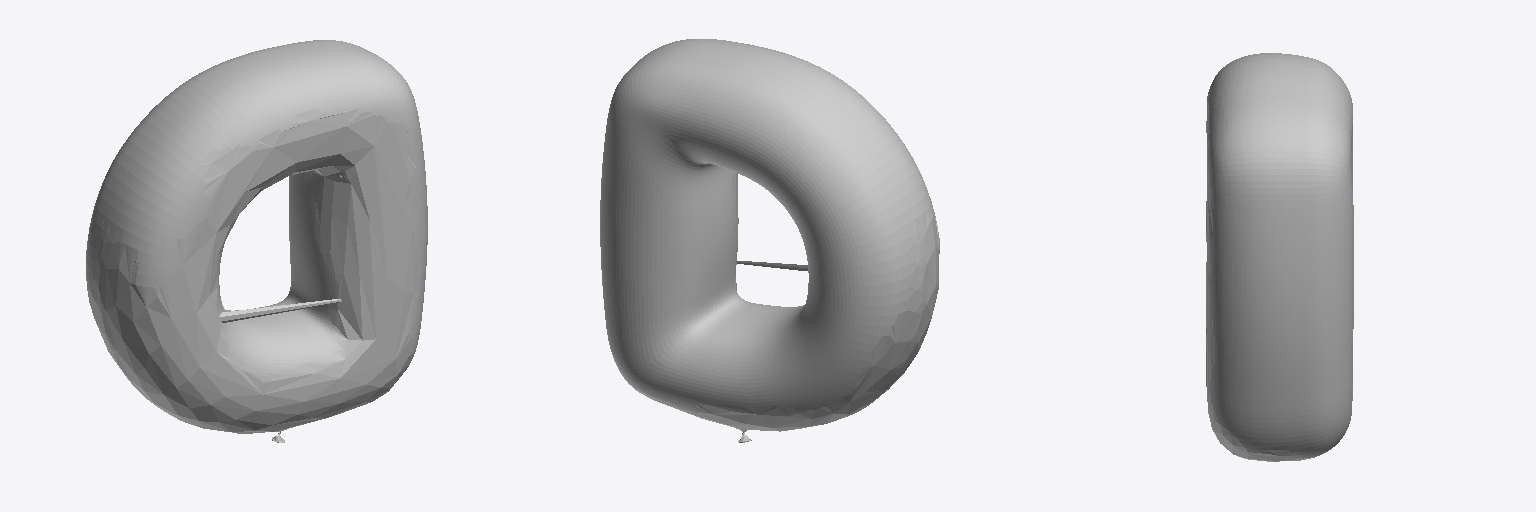
3 views of the same model, side by side, from view 1: azimuth 30°, elevation 25°; view 2: azimuth 150°, elevation 25°; view 3: azimuth 270°, elevation 25° (orthographic).
Visible parts, largest first — view 1: mmGroup0; view 2: mmGroup0; view 3: mmGroup0.
Boxes of the visible parts, <box> form: mmGroup0: <box>86,40,427,442</box>; mmGroup0: <box>600,39,939,442</box>; mmGroup0: <box>1206,53,1353,461</box>.
Size of the model in its own units: 19.05 by 22.39 by 7.82.